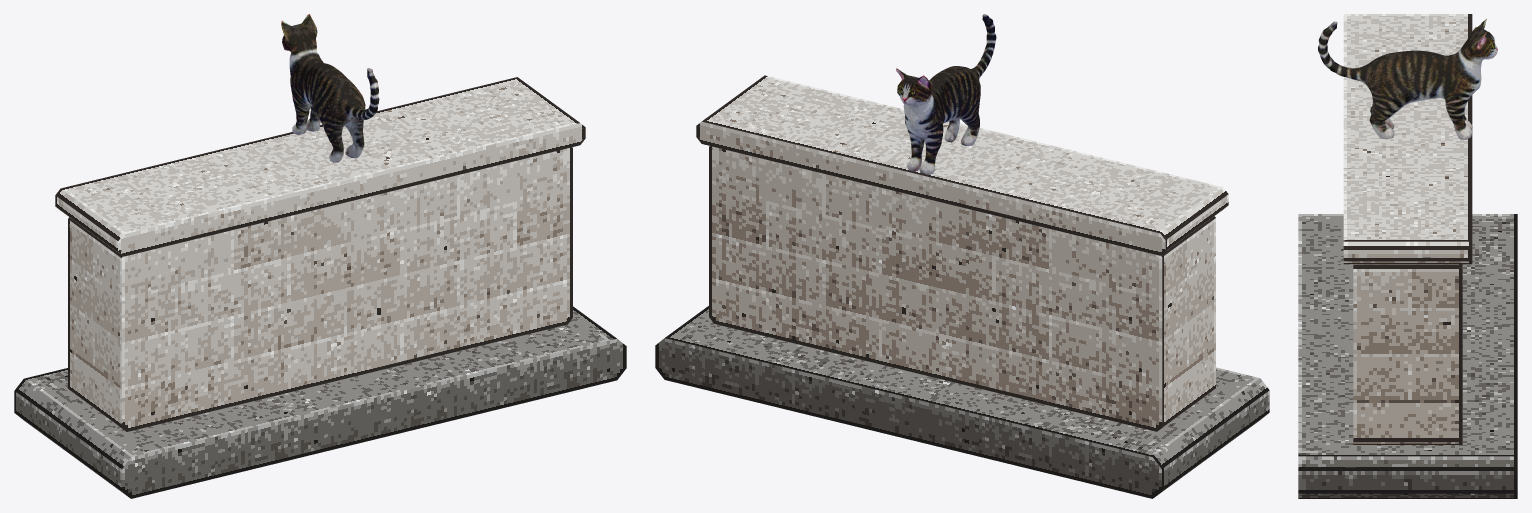
File: wall.glb
The picture shows the model from 3 angles, left to right: view 1: azimuth 30°, elevation 25°; view 2: azimuth 150°, elevation 25°; view 3: azimuth 270°, elevation 25°; orthographic projection. The views are drawn at different scales.
Parts seen in each view (by area): view 1: wall, base, wall_cap, model_cat; view 2: wall, base, wall_cap, model_cat; view 3: base, wall_cap, wall, model_cat.
Part boxes in pixels (x1=…): wall: x1=68, y1=147, x2=572, y2=431; base: x1=14, y1=306, x2=626, y2=498; wall_cap: x1=55, y1=77, x2=585, y2=256; model_cat: x1=281, y1=14, x2=379, y2=162; wall: x1=709, y1=146, x2=1215, y2=431; base: x1=655, y1=306, x2=1269, y2=498; wall_cap: x1=696, y1=75, x2=1228, y2=255; model_cat: x1=896, y1=14, x2=996, y2=174; base: x1=1298, y1=214, x2=1517, y2=498; wall_cap: x1=1343, y1=14, x2=1472, y2=264; wall: x1=1353, y1=264, x2=1462, y2=444; model_cat: x1=1318, y1=19, x2=1497, y2=139.
Bounding box in the file's own units: 38 × 25.55 × 14.
Materials: 2 (2 with a texture image).
